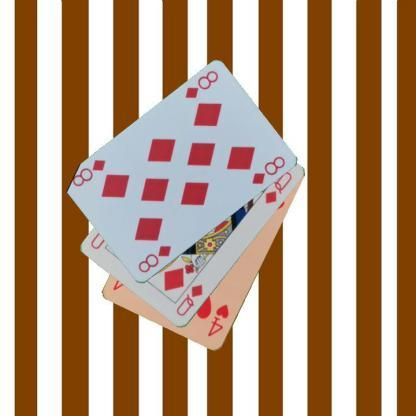4h: (206, 302, 230, 338)
8d: (182, 68, 219, 100), (136, 244, 172, 274)
Qd: (173, 282, 204, 318)
